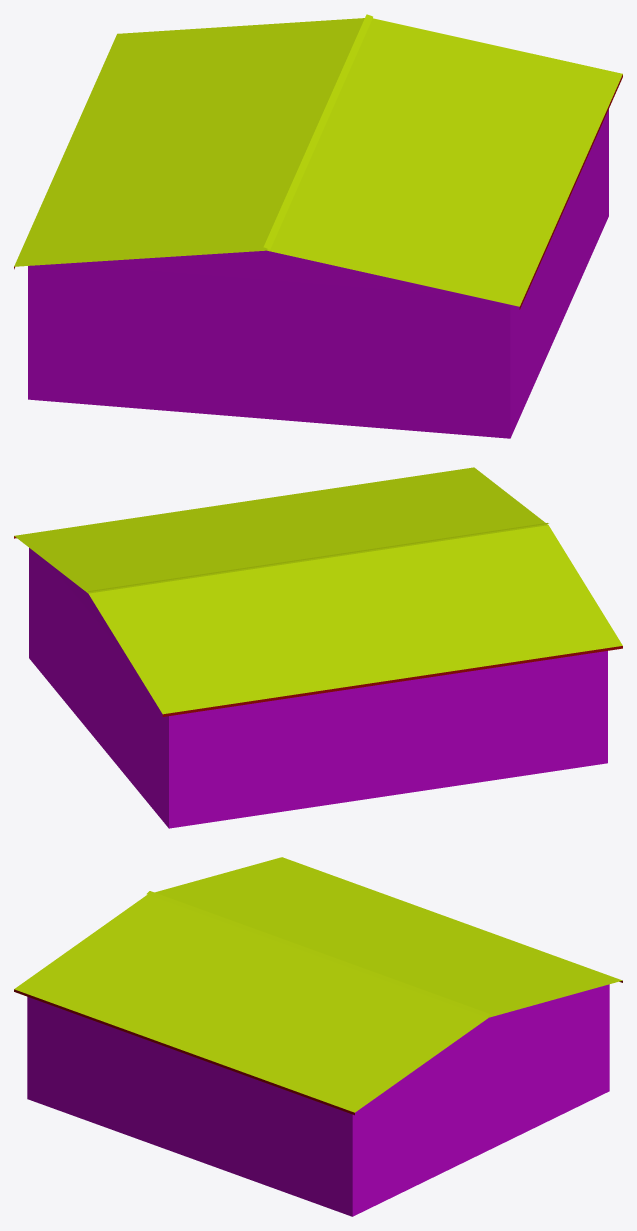
File: bgj_43.glb
3 renders of one model, top to bottom at view 1: azimuth 30°, elevation 25°; view 2: azimuth 150°, elevation 25°; view 3: azimuth 270°, elevation 25°, orthographic. The views are drawn at different scales.
Visible parts, largest first — view 1: bgj_43; view 2: bgj_43; view 3: bgj_43.
Boxes of the visible parts, box(x1,y1,x2,y2) form: bgj_43: box(14, 14, 622, 438); bgj_43: box(14, 467, 622, 828); bgj_43: box(14, 857, 622, 1216).
Bounding box in the file's own units: 25.81 × 6.67 × 25.98.
